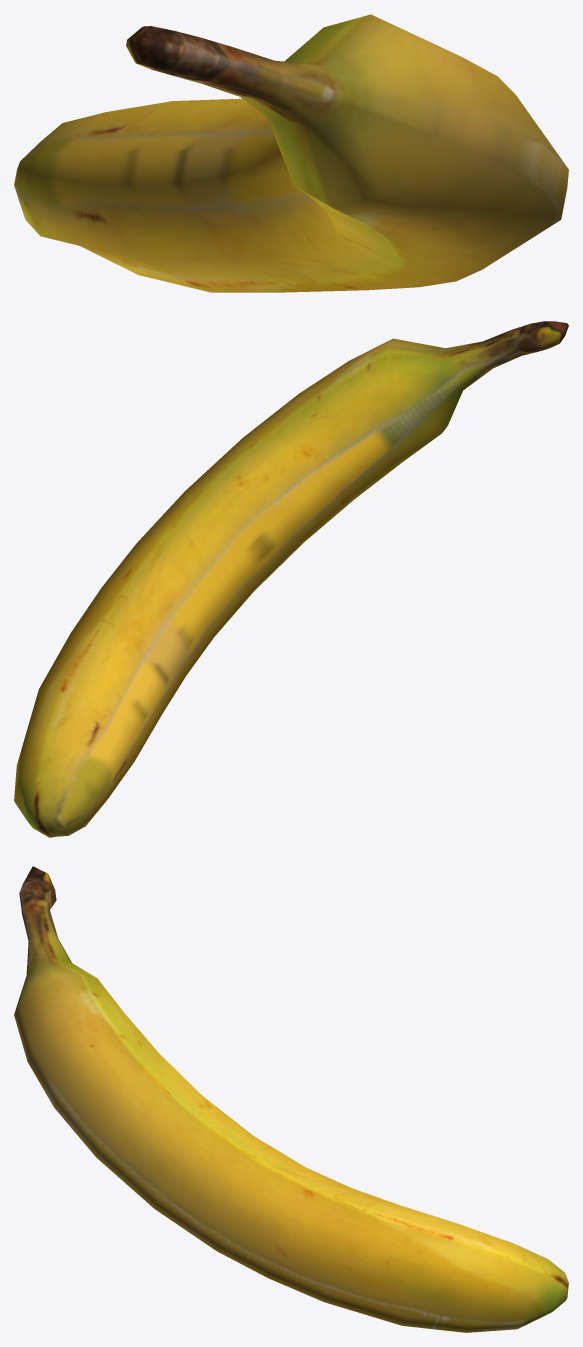
Rendered from Banana.fbx.
3 views of the same model, one above another, from view 1: azimuth 30°, elevation 25°; view 2: azimuth 150°, elevation 25°; view 3: azimuth 270°, elevation 25° (orthographic). The views are drawn at different scales.
Parts seen in each view (by area): view 1: Banana; view 2: Banana; view 3: Banana.
Boxes of the visible parts, x1=… form: Banana: x1=14, y1=14, x2=568, y2=292; Banana: x1=14, y1=321, x2=568, y2=837; Banana: x1=14, y1=866, x2=568, y2=1332.
Bounding box in the file's own units: 0.0511 × 0.054 × 0.0784.
Materials: 1 (1 with a texture image).
